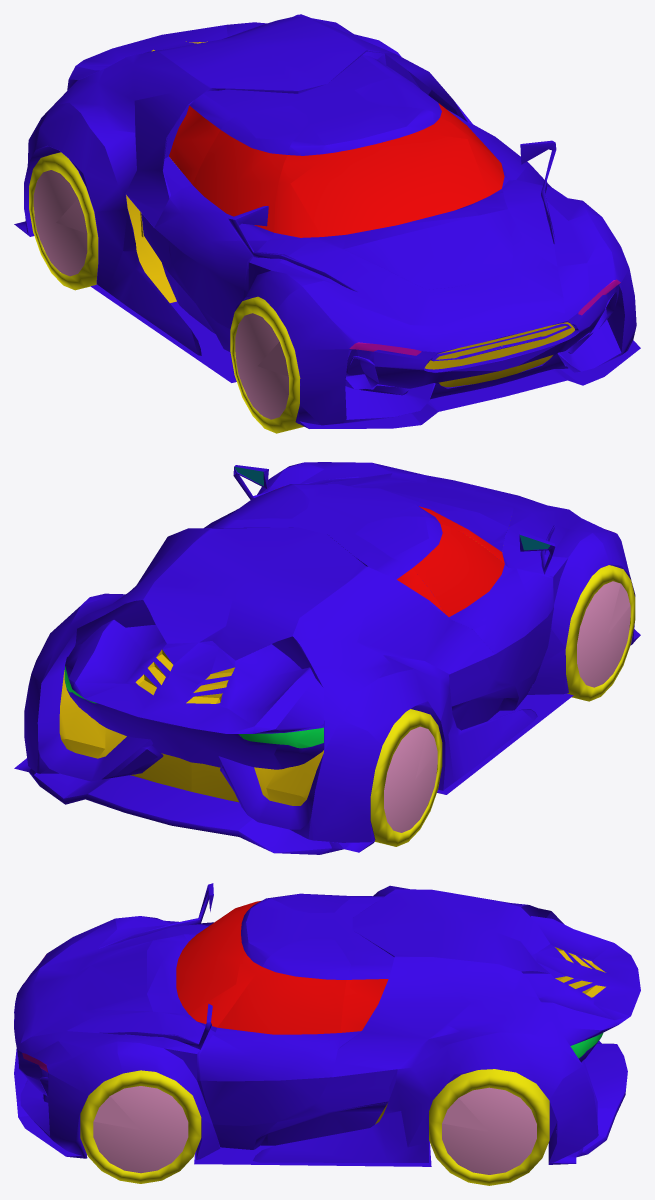
The model's file is Car14_Low_ColorCoded.fbx.
The picture shows the model from 3 angles, top to bottom: view 1: azimuth 30°, elevation 25°; view 2: azimuth 150°, elevation 25°; view 3: azimuth 270°, elevation 25°; orthographic projection. The views are drawn at different scales.
Parts seen in each view (by area): view 1: car_carBody, tireBackR_low, tireFrontR_low; view 2: car_carBody, tireBackR_low, tireFrontR_low; view 3: car_carBody, tireBackL_low, tireFrontL_low.
Part boxes in pixels (<box>): car_carBody: <box>14,14,640,428</box>; tireBackR_low: <box>29,152,98,290</box>; tireFrontR_low: <box>230,296,303,433</box>; car_carBody: <box>14,462,640,854</box>; tireBackR_low: <box>370,709,442,846</box>; tireFrontR_low: <box>565,565,635,701</box>; car_carBody: <box>14,883,640,1166</box>; tireBackL_low: <box>429,1069,549,1185</box>; tireFrontL_low: <box>80,1070,201,1183</box>.
Size of the model in its own units: 67.82 by 116 by 38.89.
